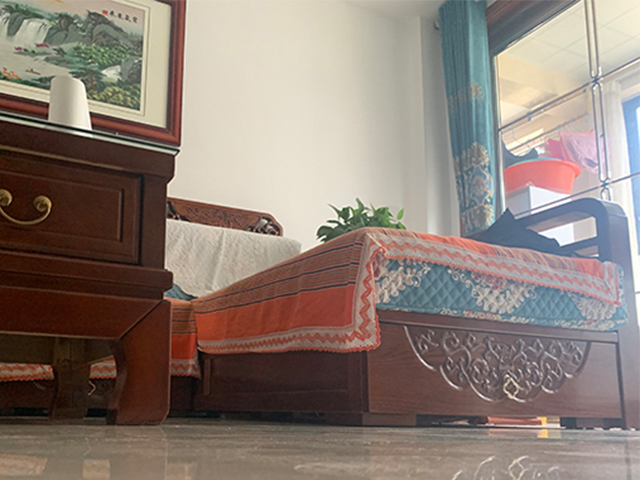curtain: (438, 1, 503, 233)
sofa: (163, 196, 640, 431)
table: (1, 110, 178, 426)
